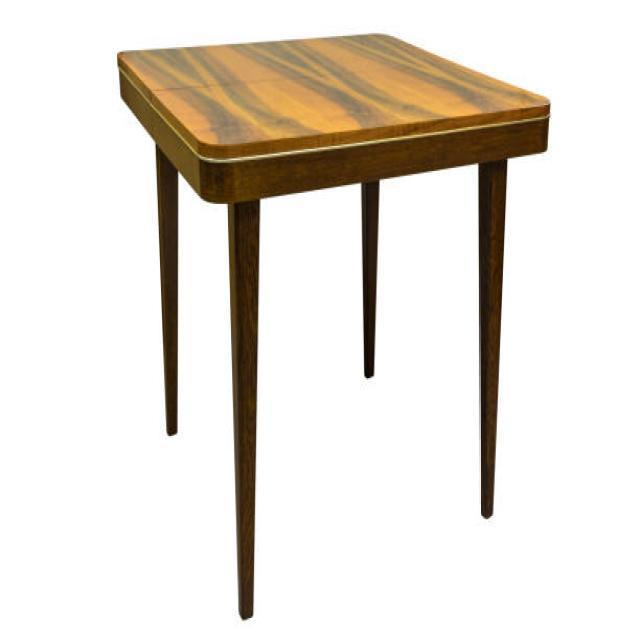table: (116, 30, 551, 618)
